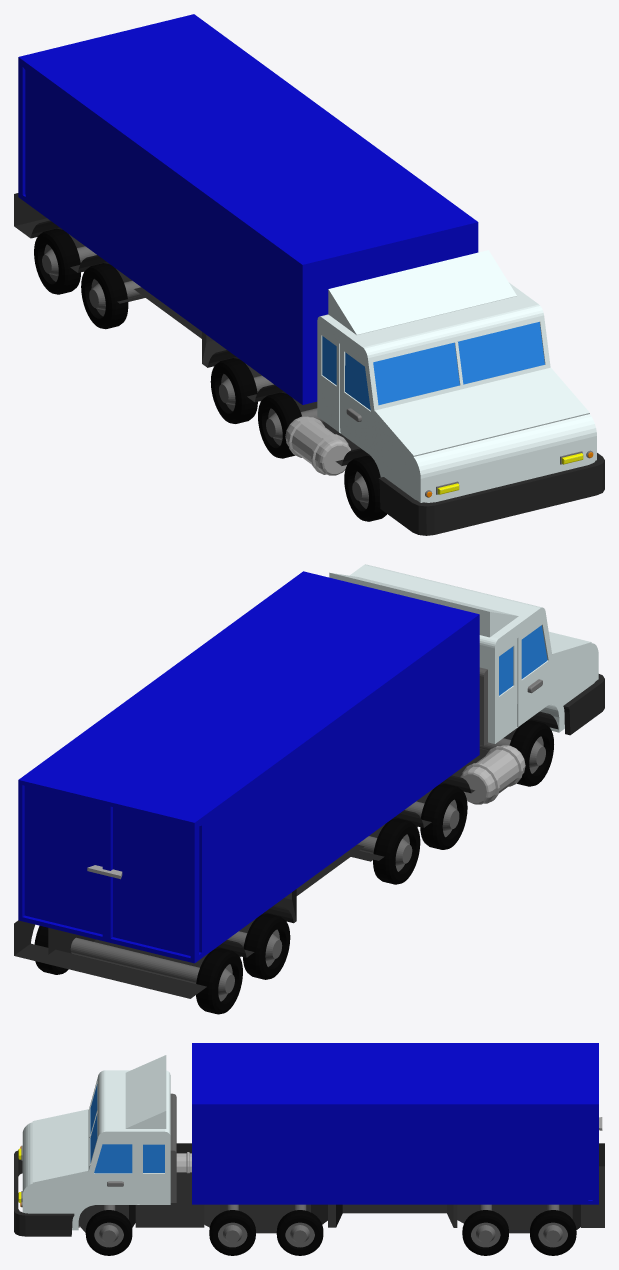
The model's file is truck.fbx.
The picture shows the model from 3 angles, top to bottom: view 1: azimuth 30°, elevation 25°; view 2: azimuth 150°, elevation 25°; view 3: azimuth 270°, elevation 25°; orthographic projection. The views are drawn at different scales.
Parts seen in each view (by area): view 1: container, head, tyre, headtop, bumper, bottom1, watertank; view 2: container, tyre, head, bottom1, watertank, headtop, bumper, bottom2, steel; view 3: container, head, tyre, bottom1, bottom2, headtop, bumper, steel, watertank.
Boxes of the visible parts, box(x1,y1,x2,y2) form: container: box(18, 14, 478, 404); head: box(317, 282, 596, 502); tyre: box(34, 228, 386, 521); headtop: box(328, 250, 516, 334); bumper: box(378, 453, 604, 535); bottom1: box(14, 193, 370, 465); watertank: box(285, 416, 350, 475); container: box(18, 571, 479, 963); tyre: box(34, 720, 553, 1014); head: box(350, 564, 598, 743); bottom1: box(14, 711, 558, 998); watertank: box(460, 745, 525, 804); headtop: box(329, 572, 518, 637); bumper: box(563, 674, 604, 735); bottom2: box(48, 727, 518, 967); steel: box(479, 667, 488, 745); container: box(192, 1043, 602, 1204); head: box(18, 1070, 170, 1230); tyre: box(85, 1204, 576, 1255); bottom1: box(78, 1143, 604, 1227); bottom2: box(79, 1204, 580, 1233); headtop: box(125, 1055, 166, 1128); bumper: box(14, 1150, 74, 1236); steel: box(170, 1093, 176, 1202); watertank: box(176, 1152, 191, 1173).
Size of the model in its own units: 437 by 443 by 1560.
